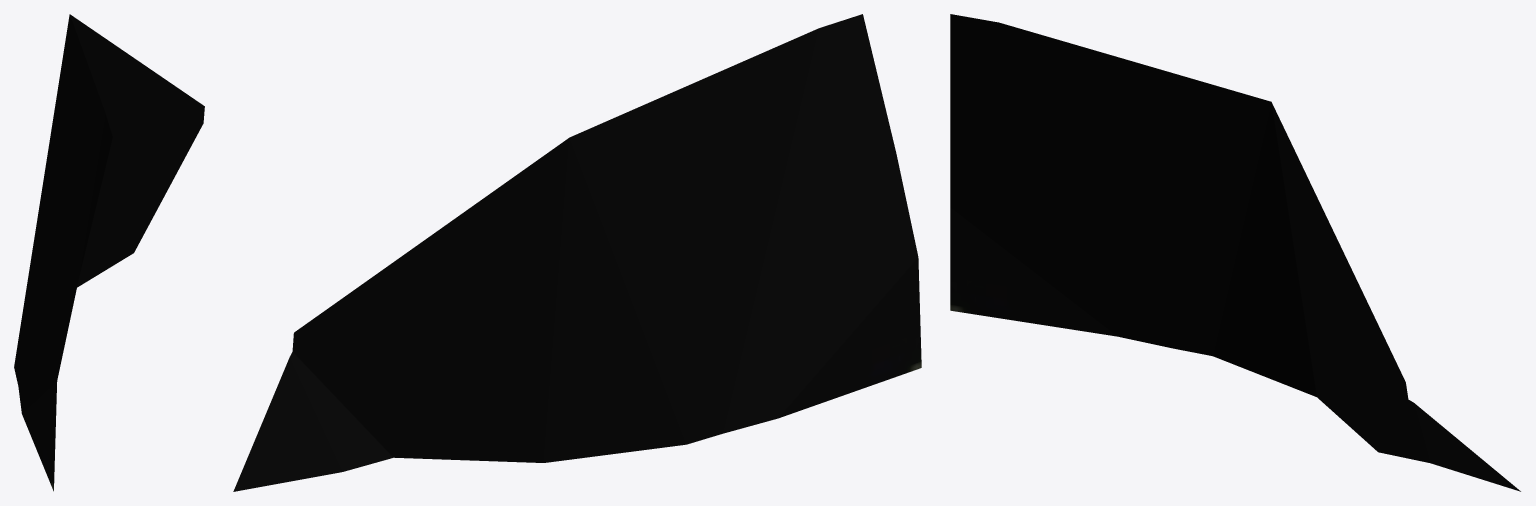
The picture shows the model from 3 angles, left to right: view 1: azimuth 30°, elevation 25°; view 2: azimuth 150°, elevation 25°; view 3: azimuth 270°, elevation 25°; orthographic projection. The views are drawn at different scales.
Size of the model in its own units: 0.6671 by 0.5561 by 0.8883.
Materials: 1 (1 with a texture image).
